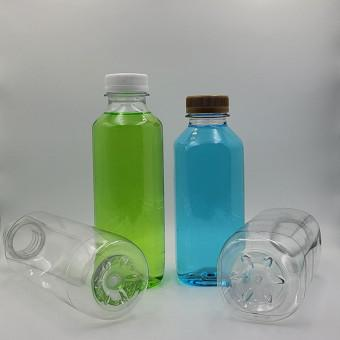bottle: (3, 212, 150, 322), (90, 72, 165, 286), (172, 95, 240, 288)
